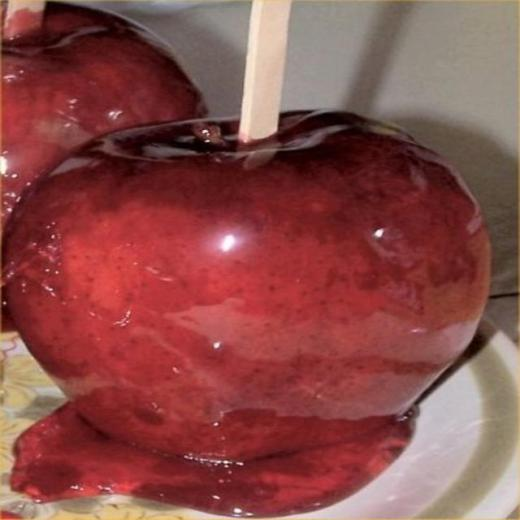Apple: (0, 110, 492, 464), (0, 0, 206, 328)
